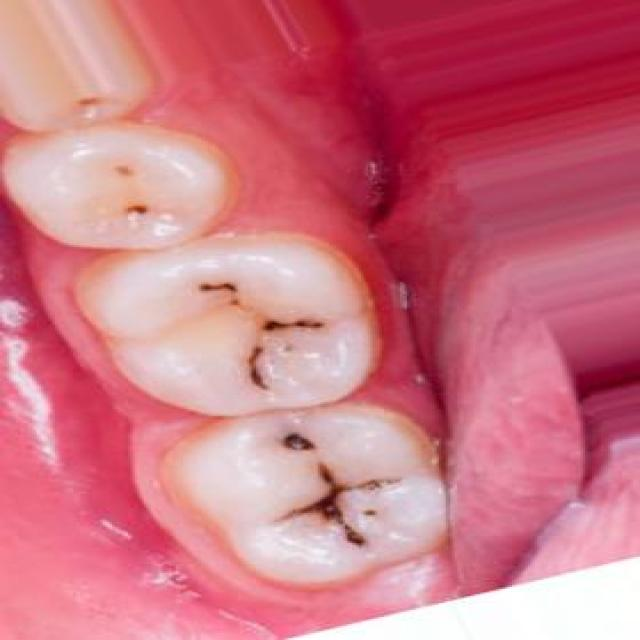caries: (271, 466, 405, 554), (225, 313, 337, 389), (185, 266, 254, 314), (262, 419, 324, 469), (104, 190, 162, 222), (109, 151, 154, 189)
